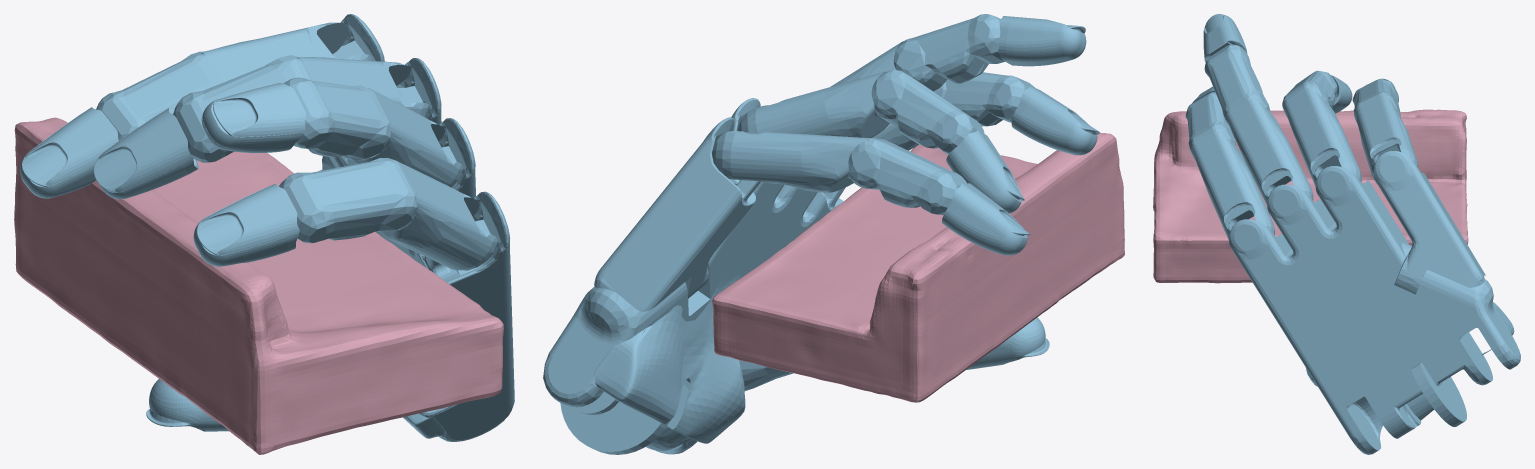
The picture shows the model from 3 angles, left to right: view 1: azimuth 30°, elevation 25°; view 2: azimuth 150°, elevation 25°; view 3: azimuth 270°, elevation 25°; orthographic projection. The views are drawn at different scales.
Parts seen in each view (by area): view 1: world, hand_isaac_q; view 2: hand_isaac_q, world; view 3: hand_isaac_q, world.
Boxes of the visible parts, left/top/right/bottom form: world: left=14, top=117, right=503, bottom=454; hand_isaac_q: left=20, top=14, right=514, bottom=441; hand_isaac_q: left=543, top=14, right=1099, bottom=454; world: left=712, top=132, right=1124, bottom=402; hand_isaac_q: left=1185, top=14, right=1520, bottom=454; world: left=1153, top=109, right=1468, bottom=283.
Size of the model in its own units: 0.1544 by 0.1504 by 0.1545.
